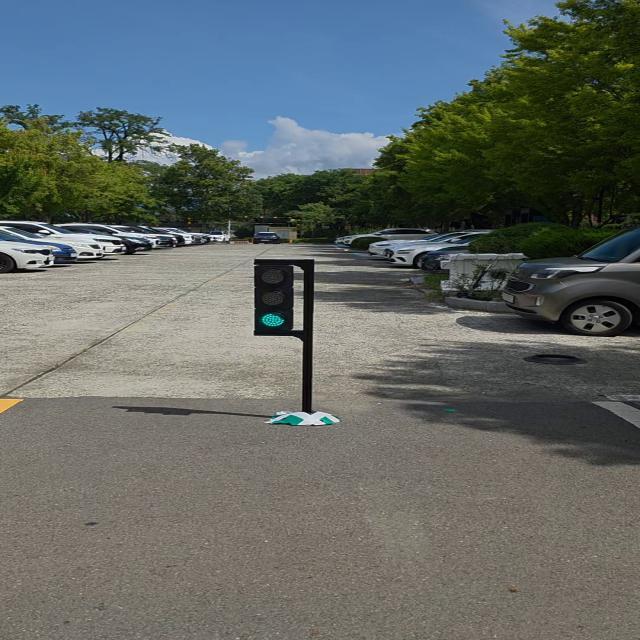green: (256, 260, 295, 338)
